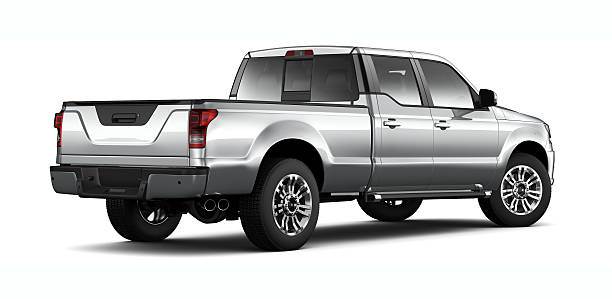Truck: (50, 44, 555, 251)
